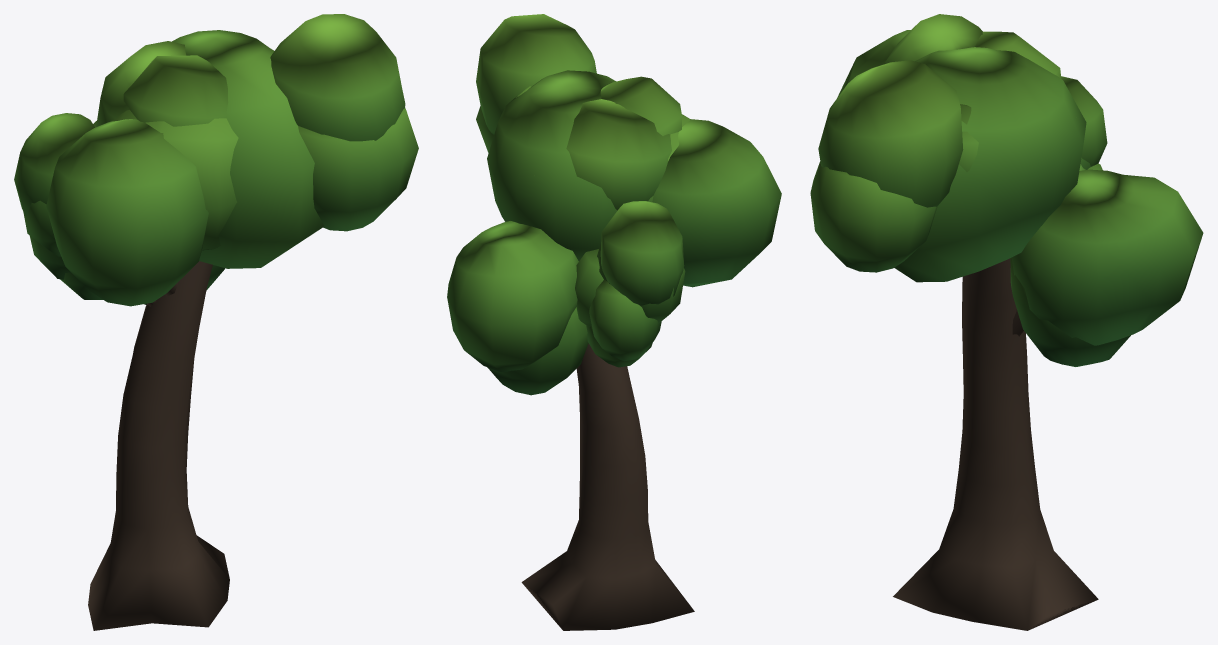
Rendered from broadleaf.lod0.glb.
3 renders of one model, left to right at view 1: azimuth 30°, elevation 25°; view 2: azimuth 150°, elevation 25°; view 3: azimuth 270°, elevation 25°, orthographic. The views are drawn at different scales.
Parts seen in each view (by area): view 1: broadleaf_s1_lod0; view 2: broadleaf_s1_lod0; view 3: broadleaf_s1_lod0.
Boxes of the visible parts, x1,y1,x2,y2 form: broadleaf_s1_lod0: (14, 14, 418, 630); broadleaf_s1_lod0: (447, 14, 781, 630); broadleaf_s1_lod0: (810, 14, 1203, 630).
Size of the model in its own units: 4.62 by 7.61 by 4.49.
